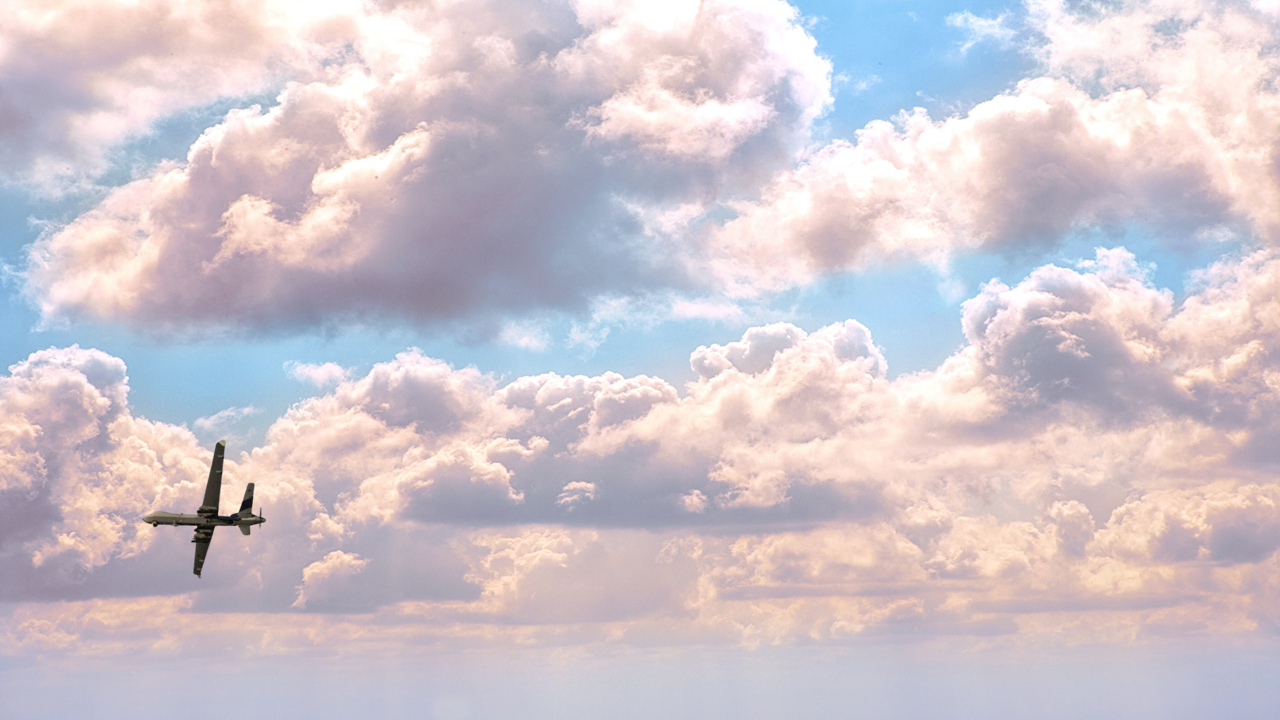military drone: (142, 439, 266, 577)
